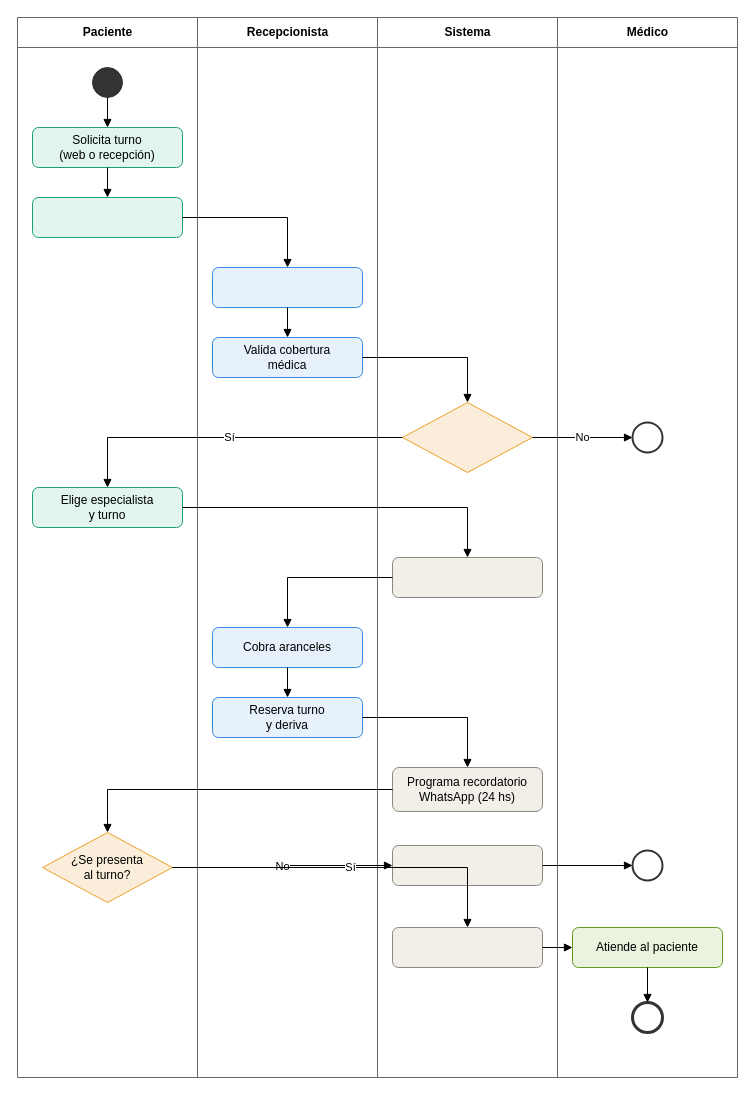
This 755x1095 diagram has some shape labels left out. The shapes that lost their labels are listed below. From the top down, each one's centre as x and y in pixels, then its label:
At point 107,217: "Se presenta en mesa de entrada".
At point 287,287: "Registra datos del paciente".
At point 467,437: "¿Cobertura autorizada?".
At point 467,577: "Calcula aranceles".
At point 467,865: "Marca estado Ausente".
At point 467,947: "Marca estado Atendido".
